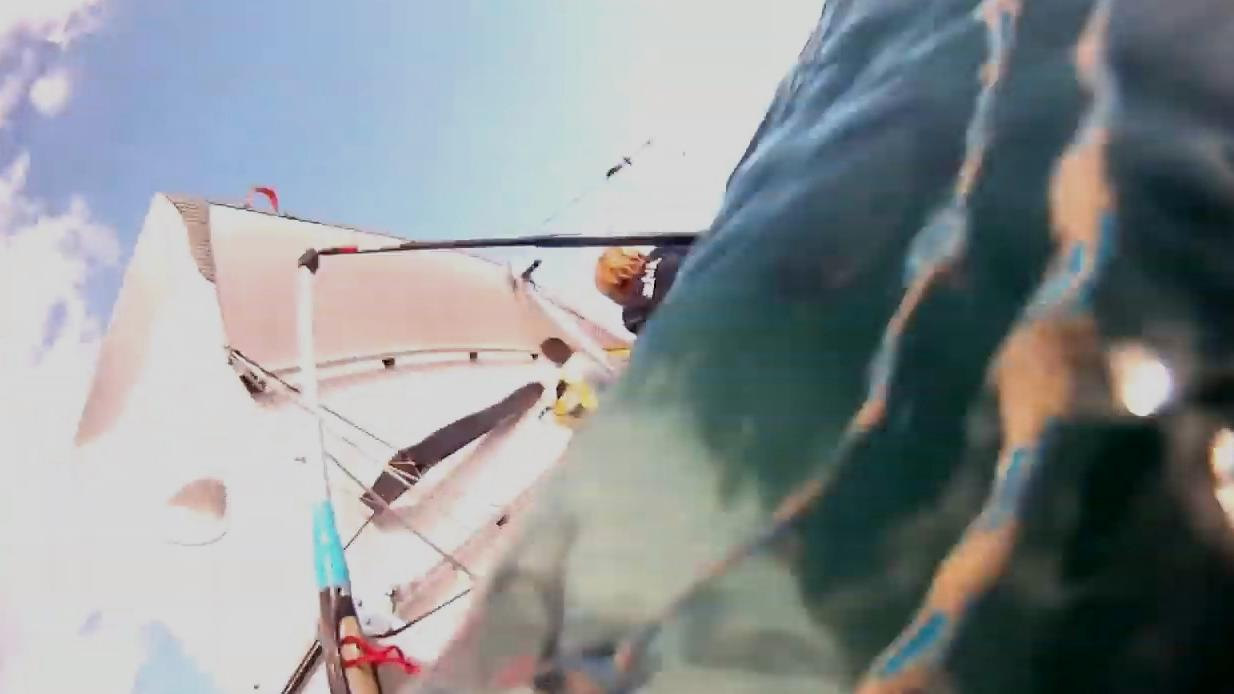boat: (67, 194, 850, 694)
person: (595, 212, 858, 332)
sea: (391, 0, 1234, 694)
sky: (0, 0, 827, 694)
